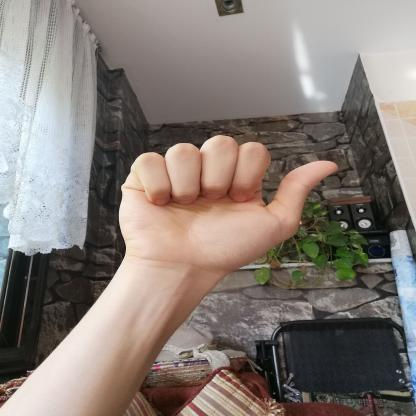DAD: (103, 127, 349, 284)
